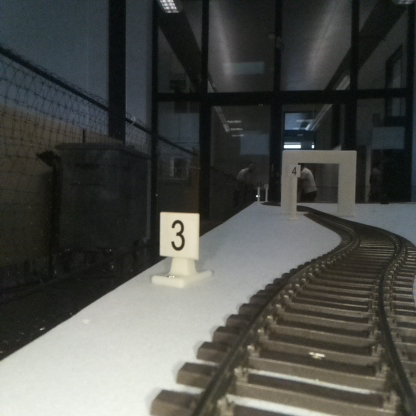white-info-4: (288, 164, 300, 218)
white-stop-3: (159, 214, 198, 282)
